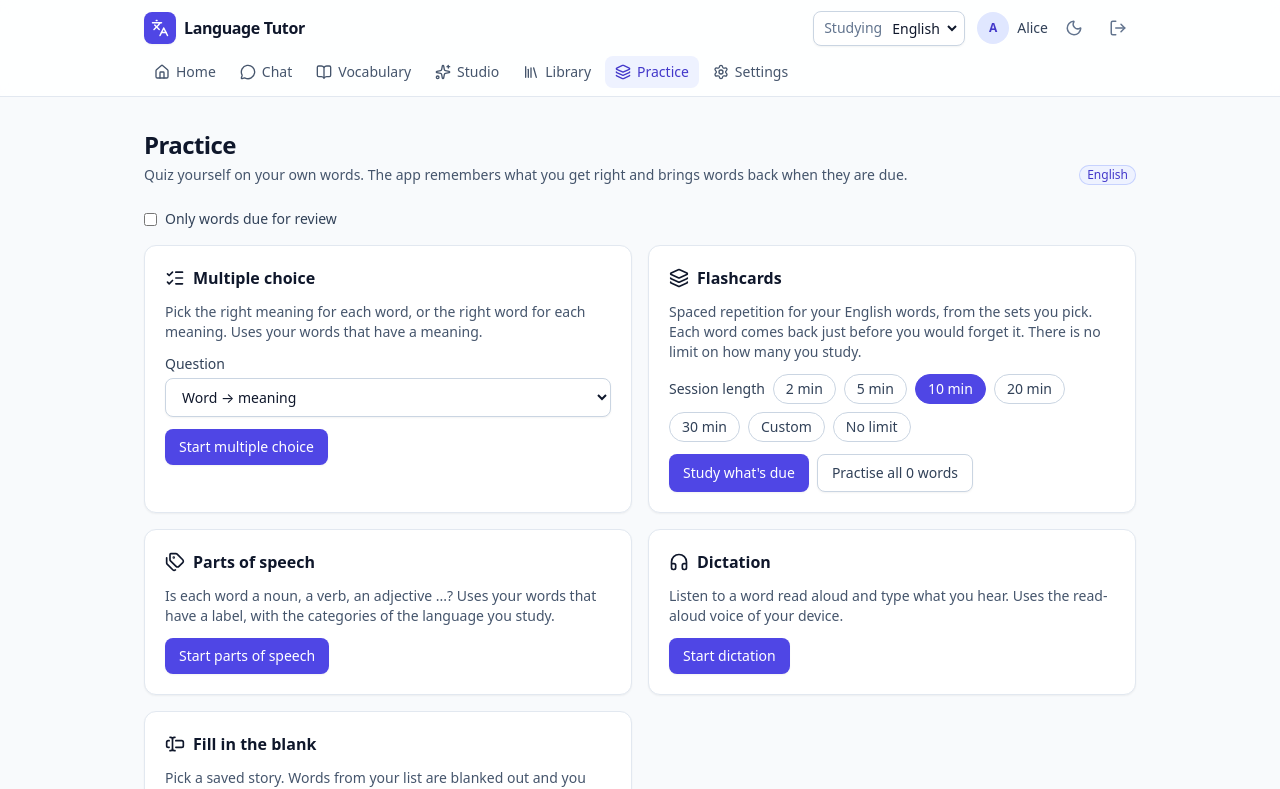
Test case: parts-of-speech practice › shows the word, the language's categories, and marks right and wrong answers, recording each
The image size is (1280, 789).
Click the button "Start parts of speech" at (247, 656), box x1=165 y1=638 x2=329 y2=674
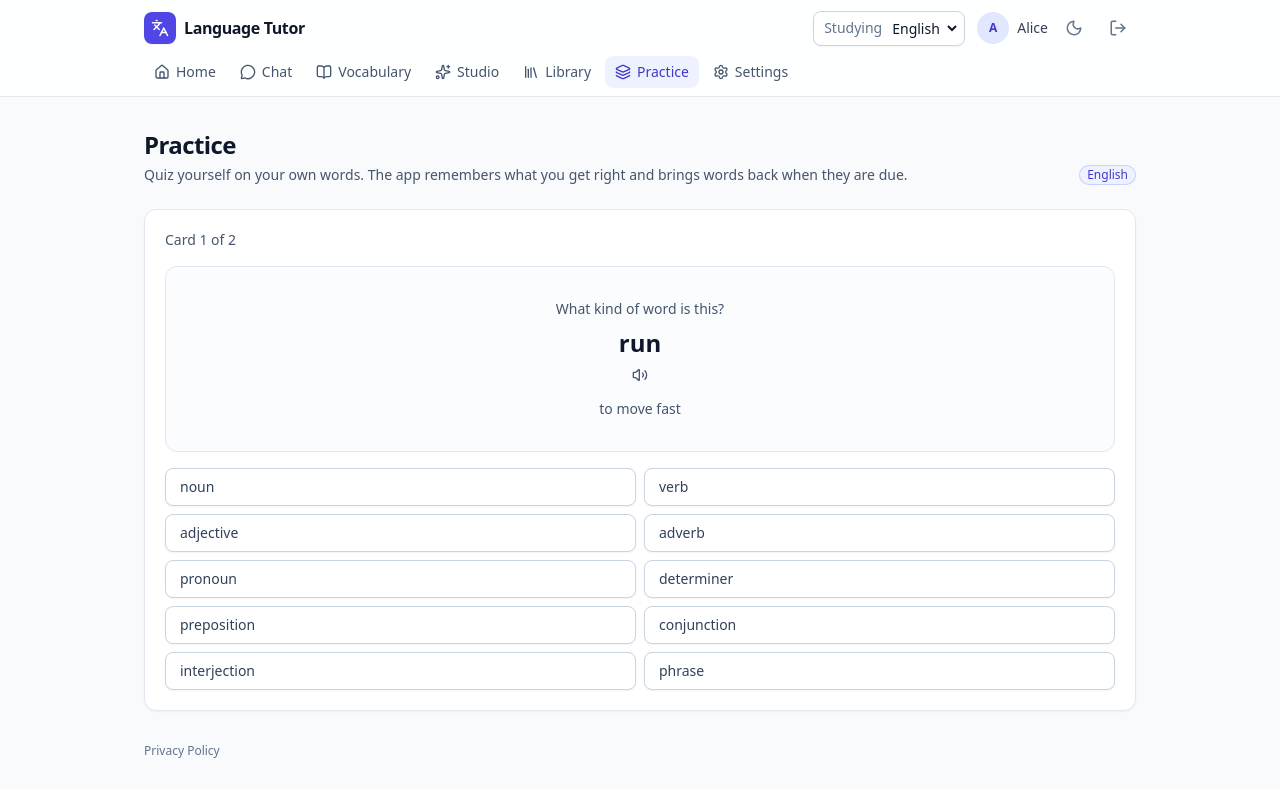
Expected: the text "run" is shown, x1=619 y1=326 x2=661 y2=359
Click the button "verb" at (674, 486), box x1=644 y1=468 x2=1115 y2=506
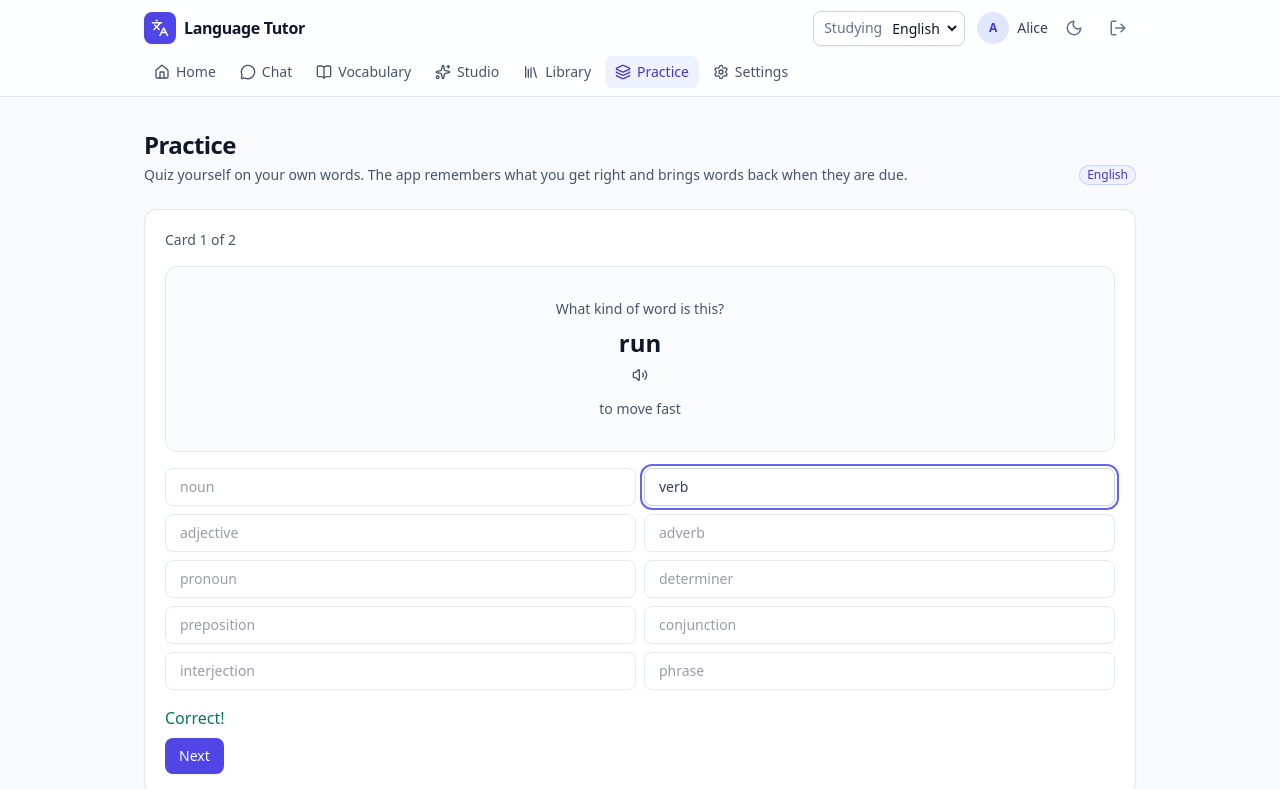
Expected: the text "Correct!" is shown, x1=165 y1=707 x2=224 y2=729
Click the button "Next" at (194, 756), box x1=165 y1=738 x2=224 y2=774
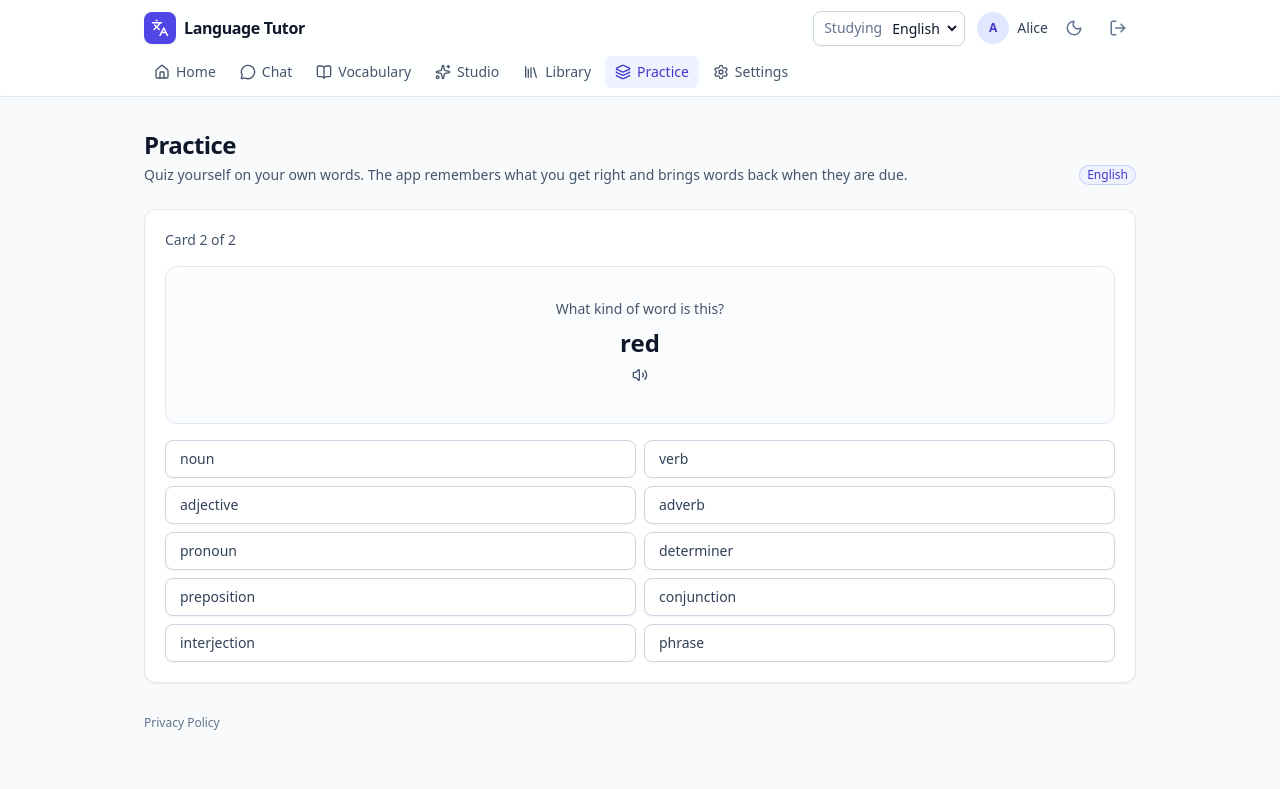
Click the button "noun" at (197, 458), box x1=165 y1=440 x2=636 y2=478
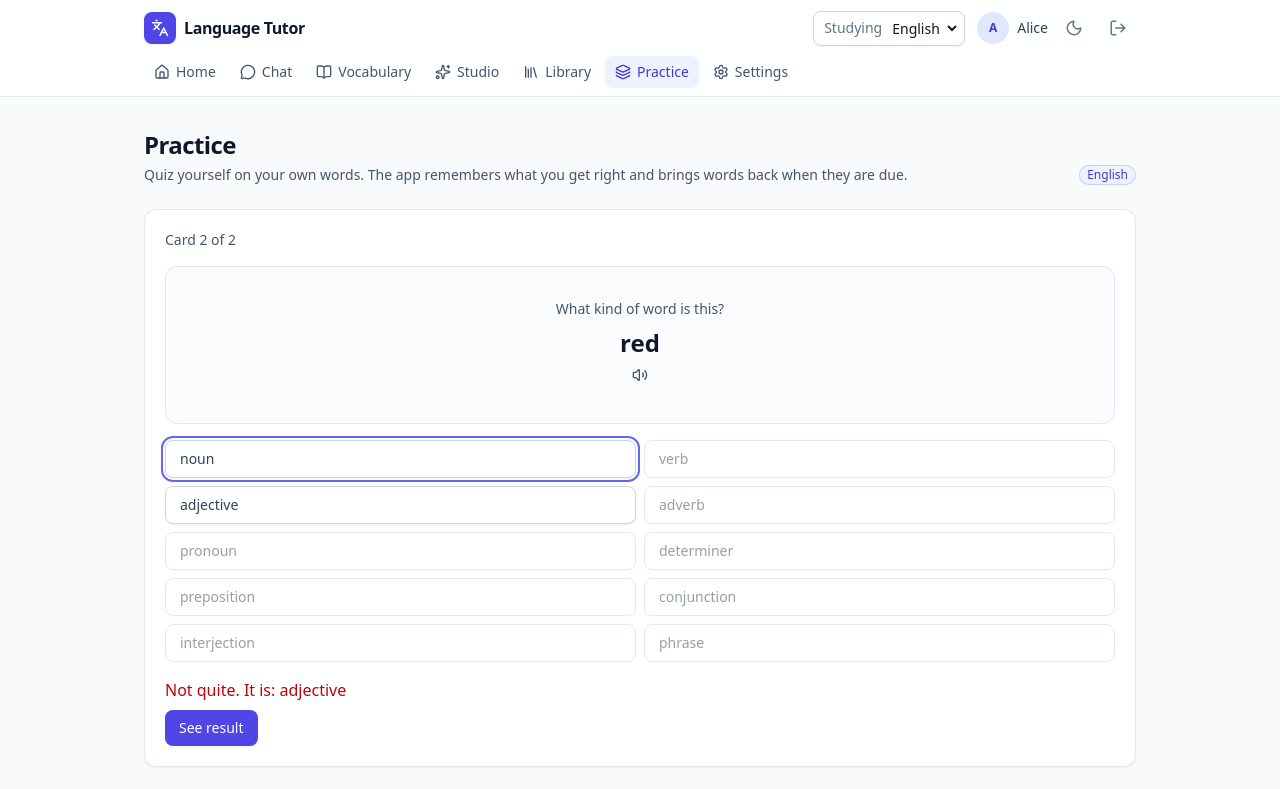
Expected: the text "Not quite. It is: adjective" is shown, x1=165 y1=679 x2=346 y2=701
Click the button "See result" at (211, 728), box x1=165 y1=710 x2=258 y2=746
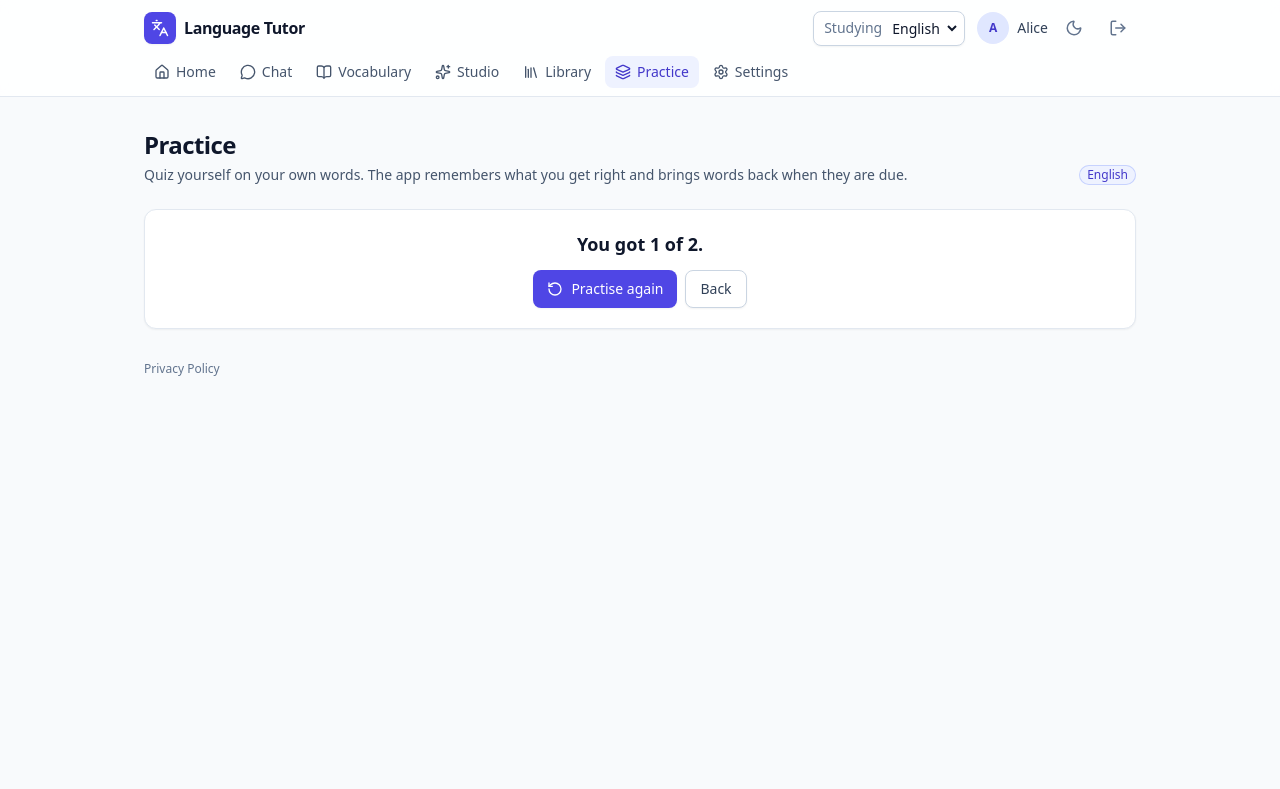
Expected: the text "You got 1 of 2." is shown, x1=577 y1=232 x2=703 y2=256
